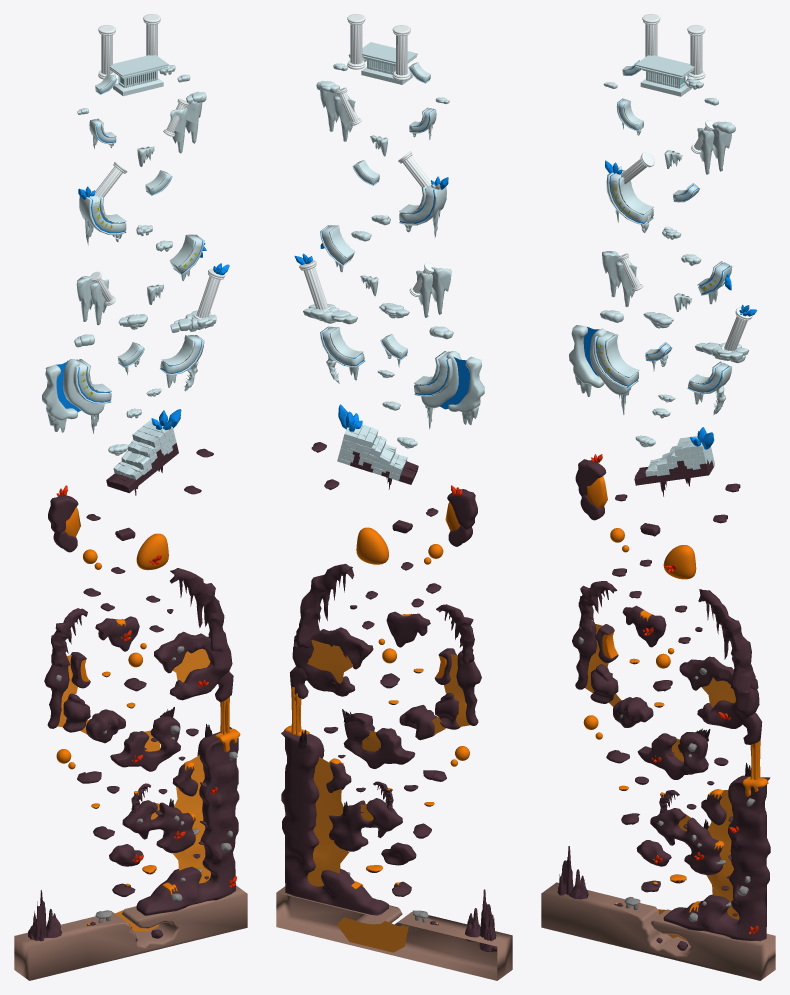
File: Level2.fbx
The picture shows the model from 3 angles, left to right: view 1: azimuth 30°, elevation 25°; view 2: azimuth 150°, elevation 25°; view 3: azimuth 330°, elevation 25°; orthographic projection.
Parts seen in each view (by area): view 1: stage2; view 2: stage2; view 3: stage2.
Boxes of the visible parts, x1,y1,x2,y2 form: stage2: (14, 14, 247, 980); stage2: (276, 14, 512, 980); stage2: (541, 14, 775, 980).
Size of the model in its own units: 31092 by 124702 by 6346.
